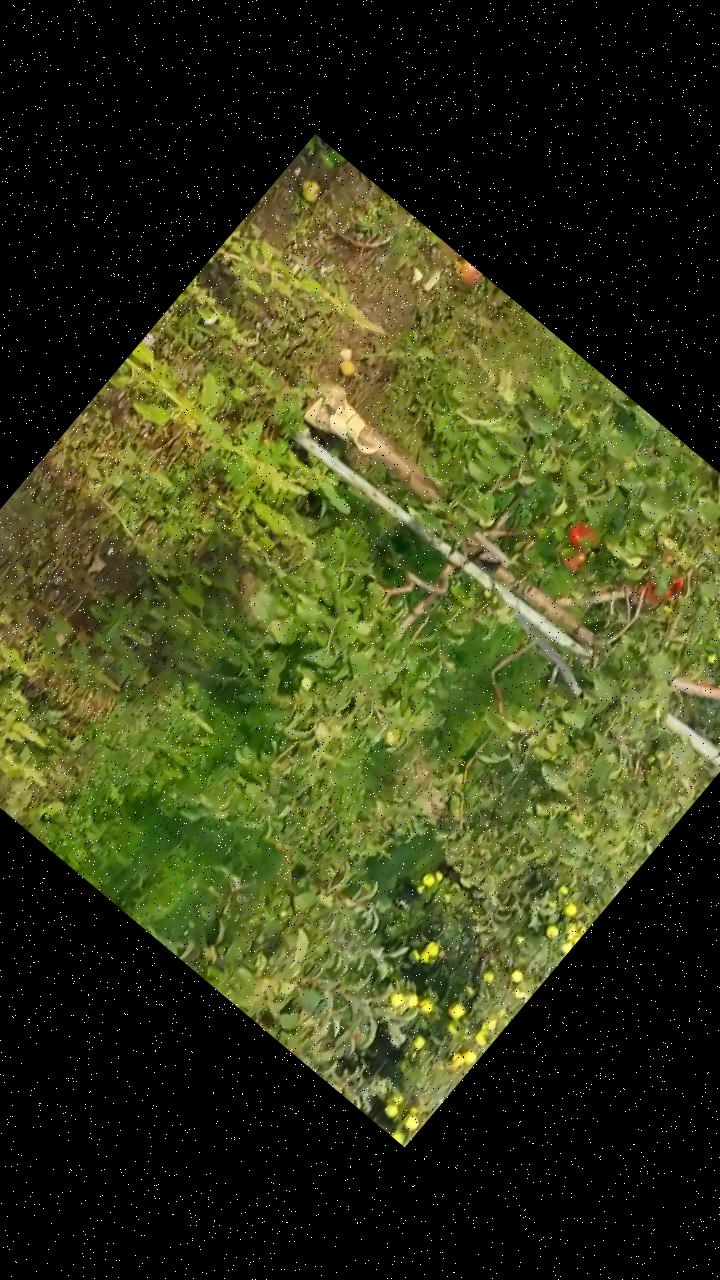Apple: (564, 517, 602, 554), (635, 574, 670, 608), (660, 569, 690, 600), (564, 544, 593, 574)
